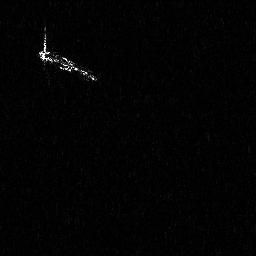ship: (35, 25, 100, 85)
